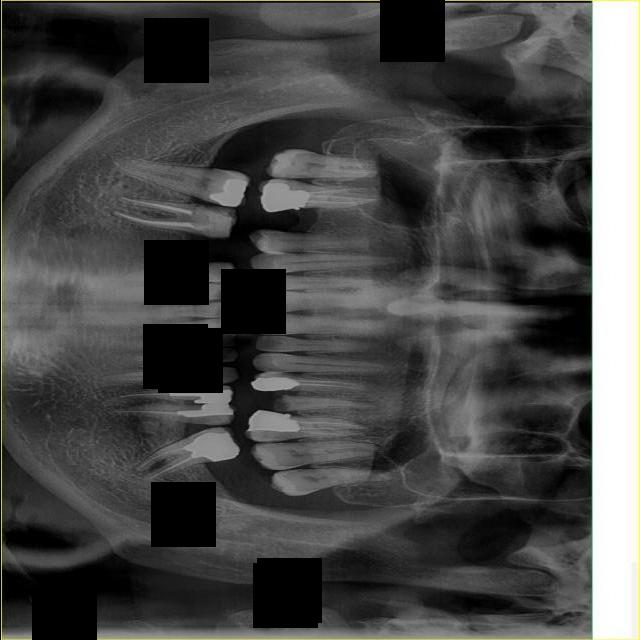74: (118, 194, 193, 216), (113, 212, 198, 231), (138, 445, 185, 468), (157, 455, 194, 474), (114, 408, 181, 416), (299, 430, 362, 437), (301, 383, 363, 390), (309, 194, 378, 200), (307, 199, 372, 204), (121, 392, 168, 397), (308, 188, 365, 192), (297, 422, 355, 425), (297, 381, 340, 383)
NucleOSS Implant: (180, 426, 240, 469), (207, 170, 254, 216), (258, 180, 309, 213), (244, 411, 299, 432), (175, 402, 233, 419), (169, 390, 232, 405), (249, 376, 299, 393)
Sterngold Implant: (272, 395, 293, 413), (288, 158, 300, 169)
Straumann Implant: (188, 203, 237, 240)
